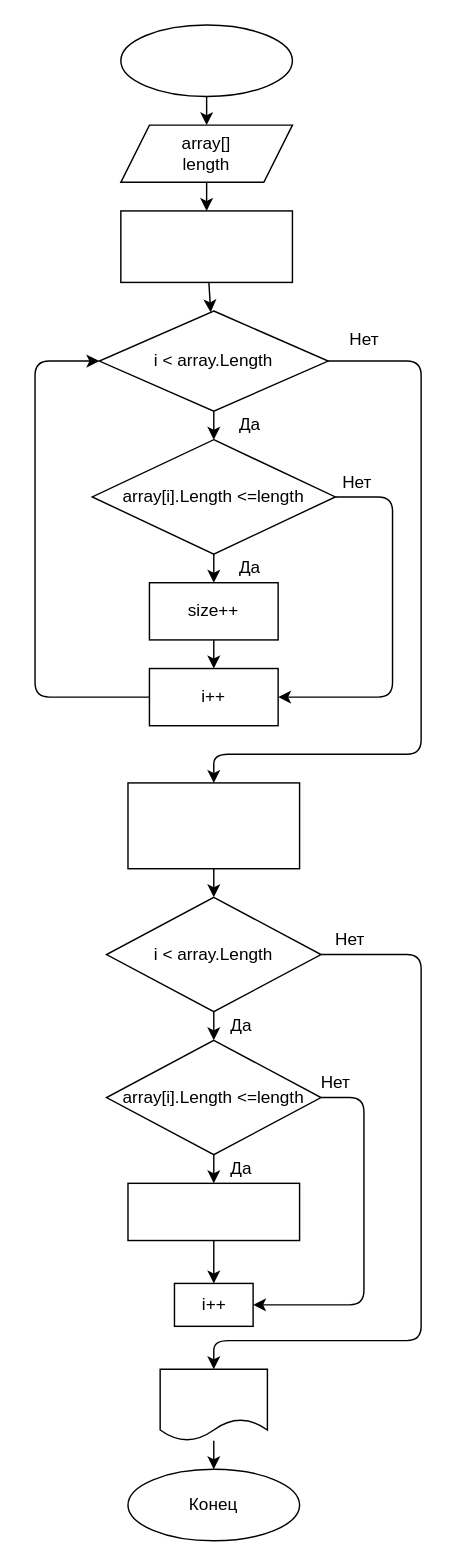
Some shapes in this 458 by 1566 pixel diagram are drawn without their labels. The box of each missing label's shape, as (x1, y1, x2, y2) in pixels:
i = 0 size = 0: (119, 209, 292, 282)
result [size] i = 0 k = 0: (127, 781, 300, 869)
result[]: (159, 1368, 267, 1441)
result[k] = array[i] k++: (127, 1182, 300, 1241)
Начало: (119, 24, 292, 97)
